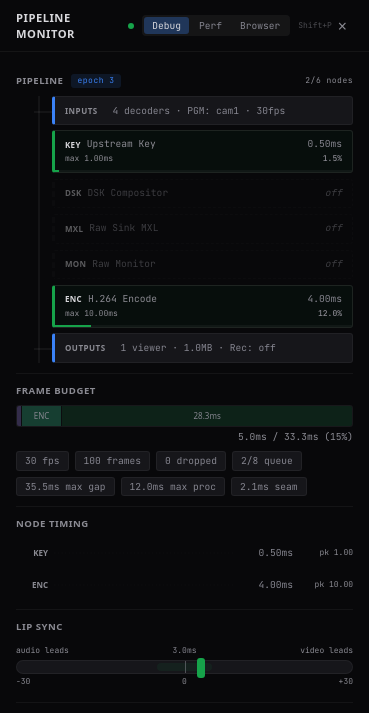
StatsPanel › shows "No browser data" when pipeline is null
This screenshot has width=369, height=713.
// Switch to browser tab
Click the button with class "toggle-btn" showing "Browser": (260, 26) [232,17,288,34]
Wait 100 ms
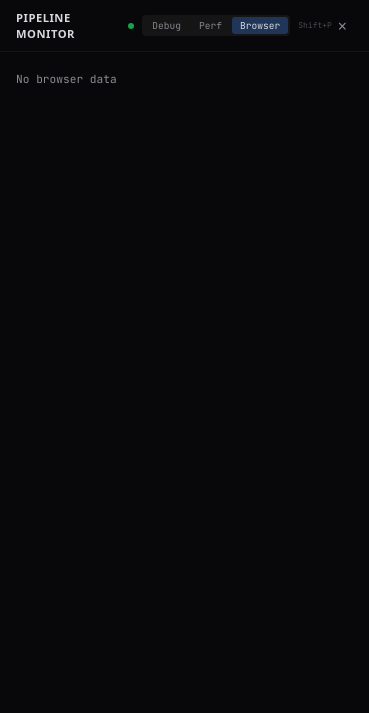
Now the text with class "loading" reads "No browser data", box [16,72,117,86]
